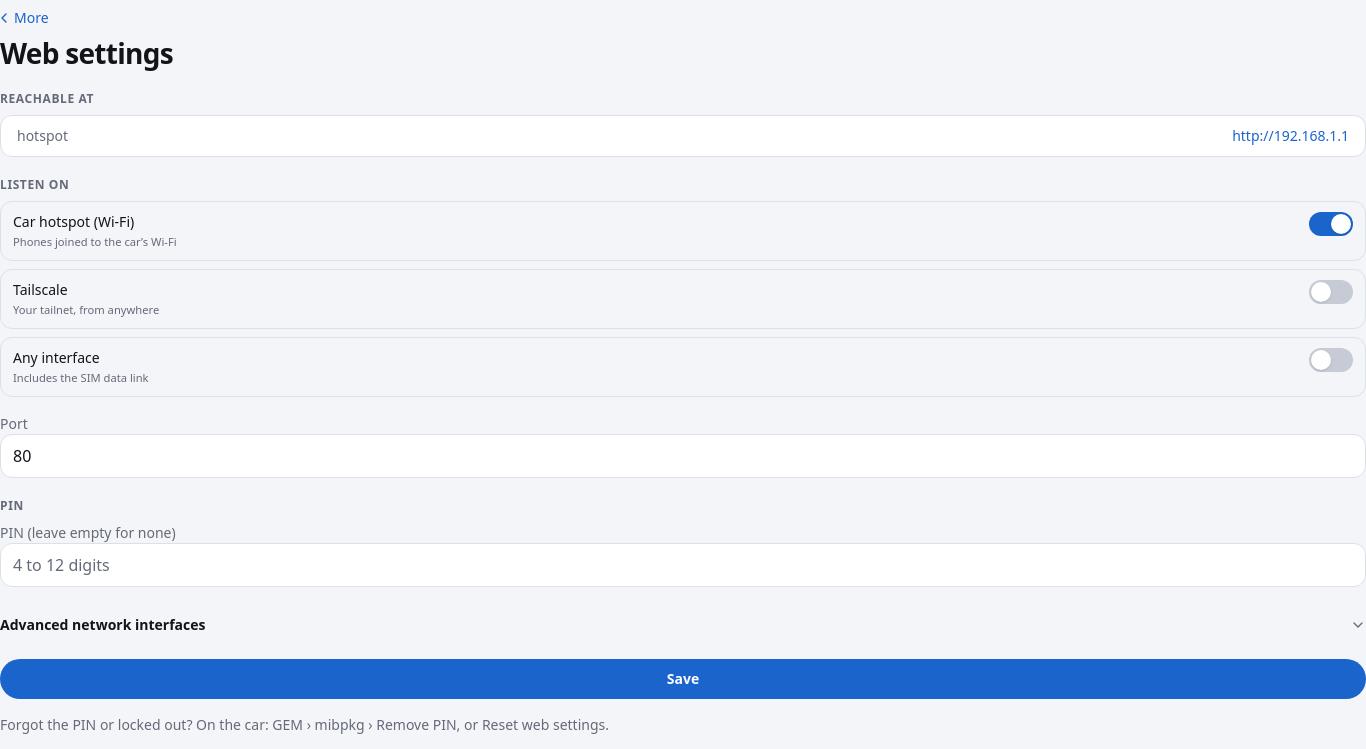
Web settings › a change that would cut this phone off asks first
Click the button "Save" at (683, 679), box [0,659,1365,699]
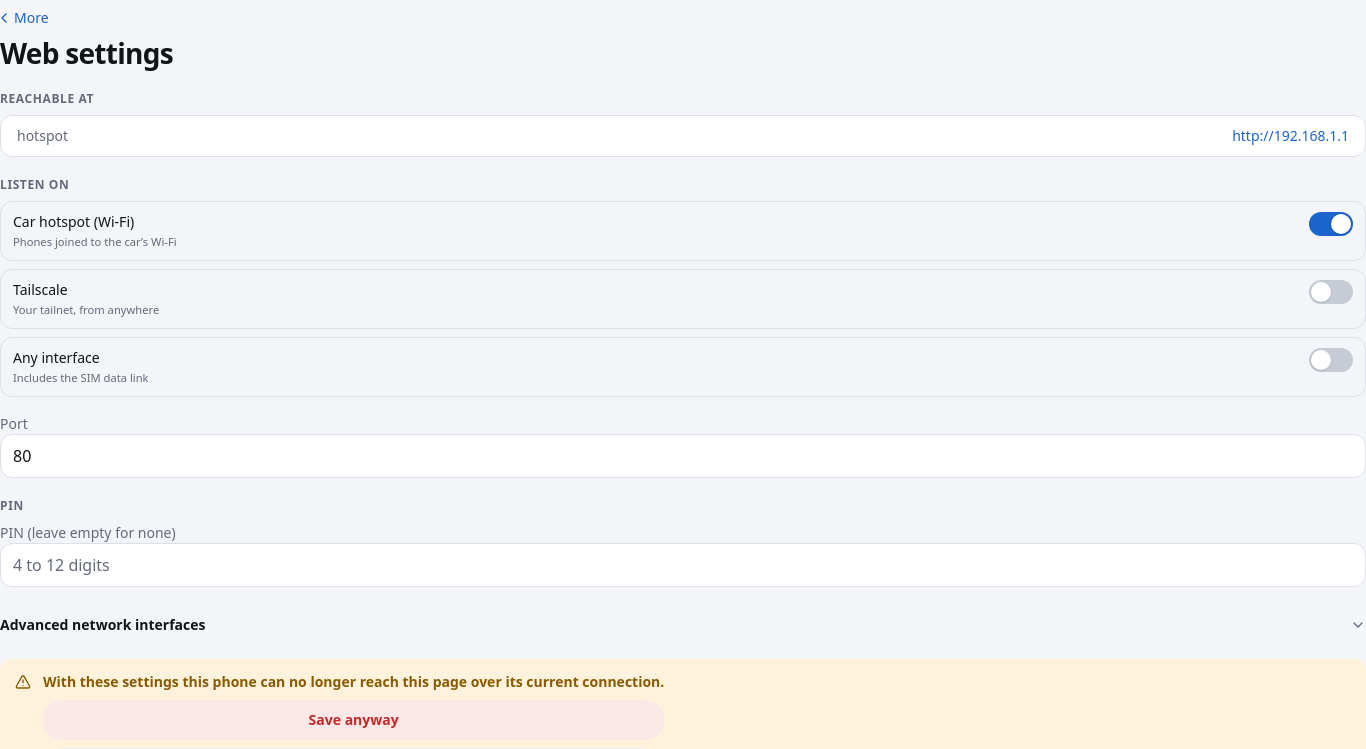
Result: the text "this phone can no longer reach this page" is shown at [43,672,664,691]
Result: the button "Save anyway" is shown at [43,700,664,740]
